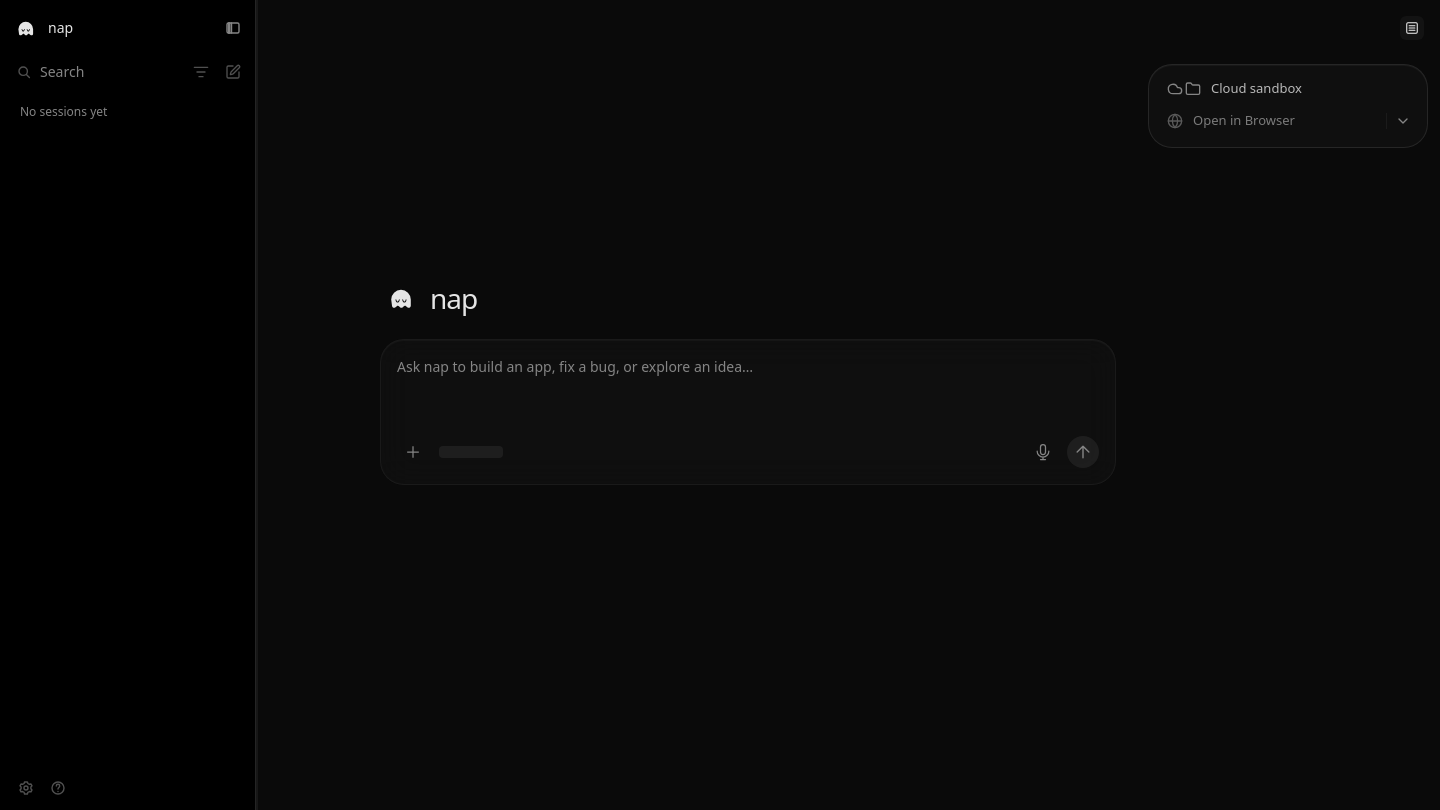
it: signing out › marks the rail busy from the press, not from the answer
Click the button named "Settings" at (26, 788), box [12,774,40,802]
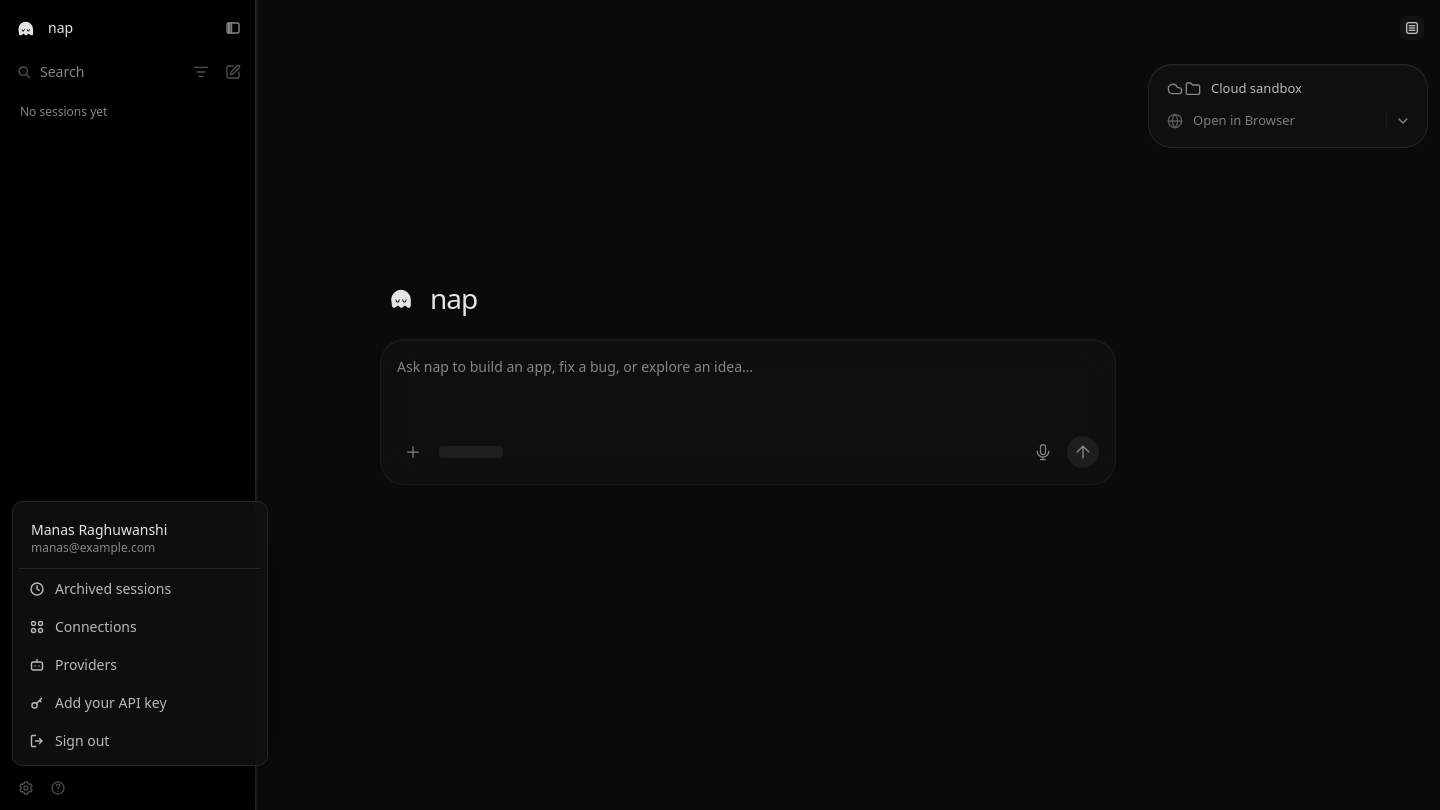
Click the menu item "Sign out" at (140, 741), box [19,723,261,759]
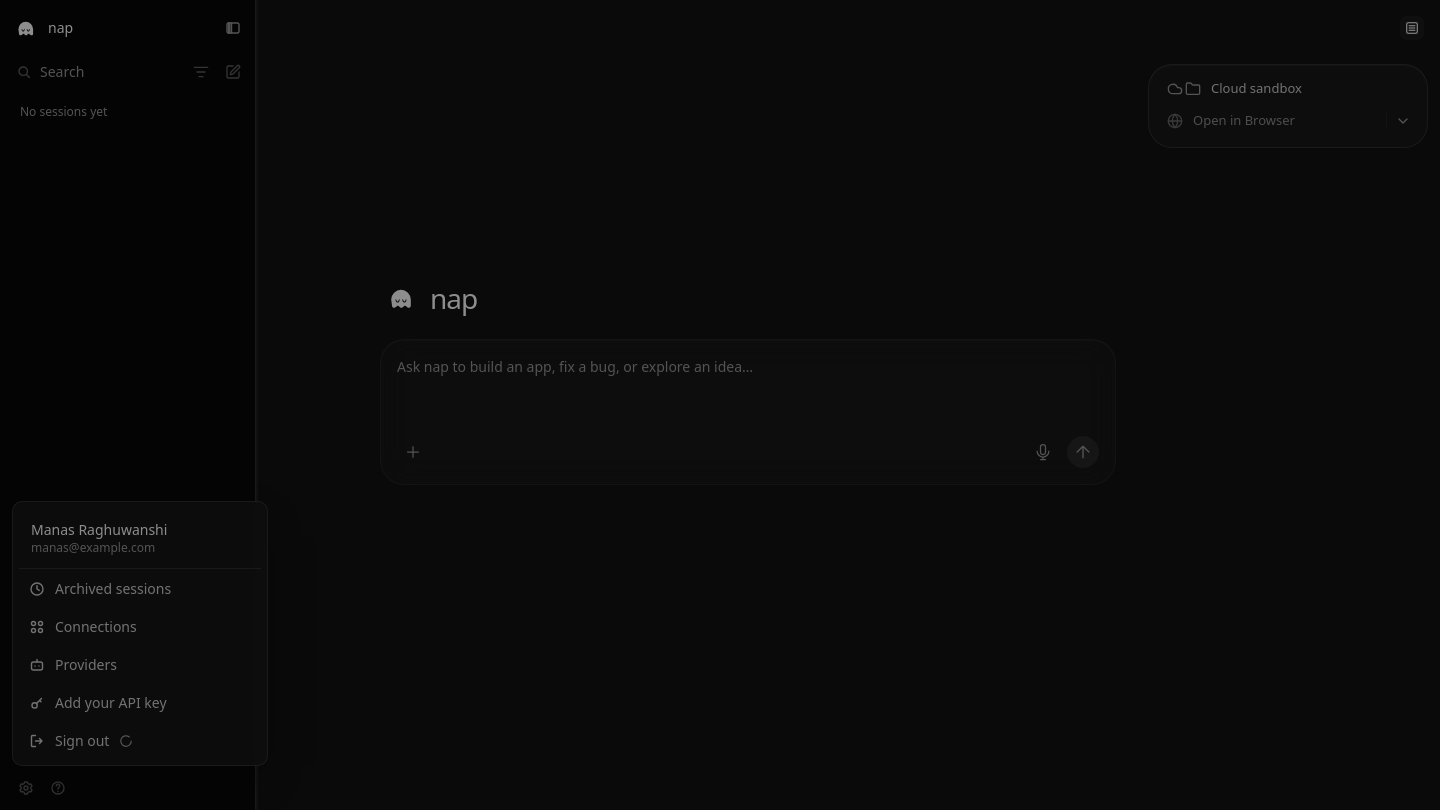
Check: the menu item "Sign out" is disabled, box [19,723,261,759]
